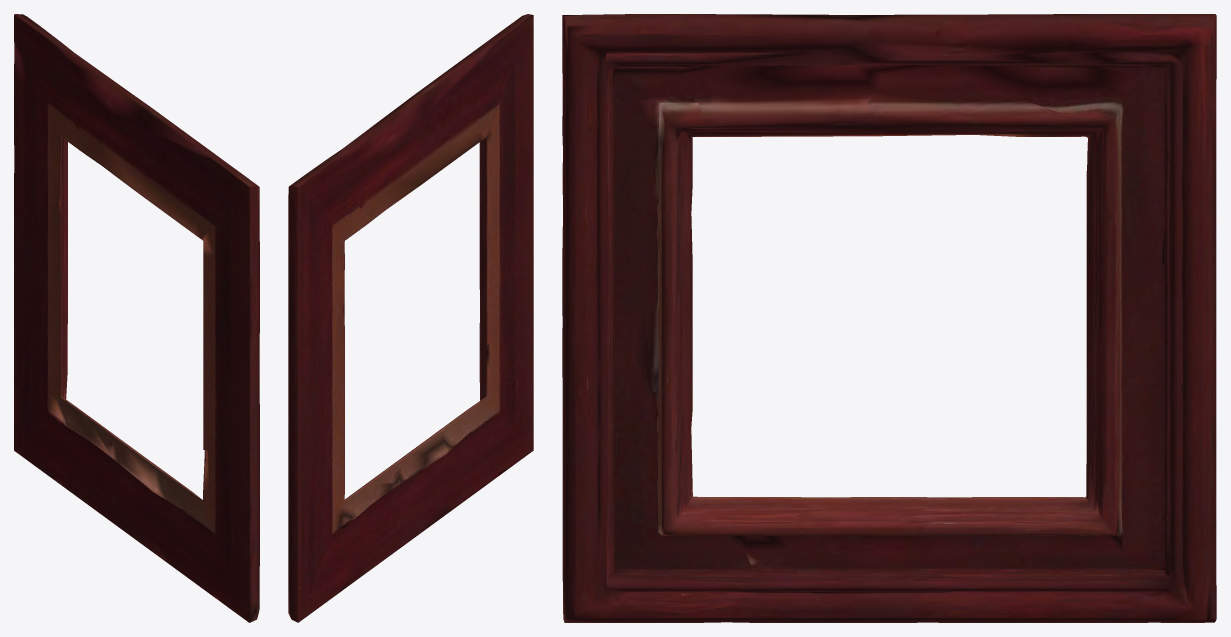
The model's file is 装饰木质边框.glb.
The picture shows the model from 3 angles, left to right: view 1: azimuth 30°, elevation 25°; view 2: azimuth 150°, elevation 25°; view 3: azimuth 270°, elevation 25°; orthographic projection. The views are drawn at different scales.
Visible parts, largest first — view 1: tripo_node_9eb113c4-4c05-443e-a891-6d00a62faff5; view 2: tripo_node_9eb113c4-4c05-443e-a891-6d00a62faff5; view 3: tripo_node_9eb113c4-4c05-443e-a891-6d00a62faff5.
Part boxes in pixels (x1,y1,x2,y2): tripo_node_9eb113c4-4c05-443e-a891-6d00a62faff5: (14, 14, 259, 622); tripo_node_9eb113c4-4c05-443e-a891-6d00a62faff5: (288, 14, 533, 622); tripo_node_9eb113c4-4c05-443e-a891-6d00a62faff5: (562, 14, 1216, 622).
Size of the model in its own units: 0.0455 by 0.9999 by 0.9781.
1 material, 1 textured.
